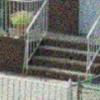stairs: (24, 31, 100, 86)
